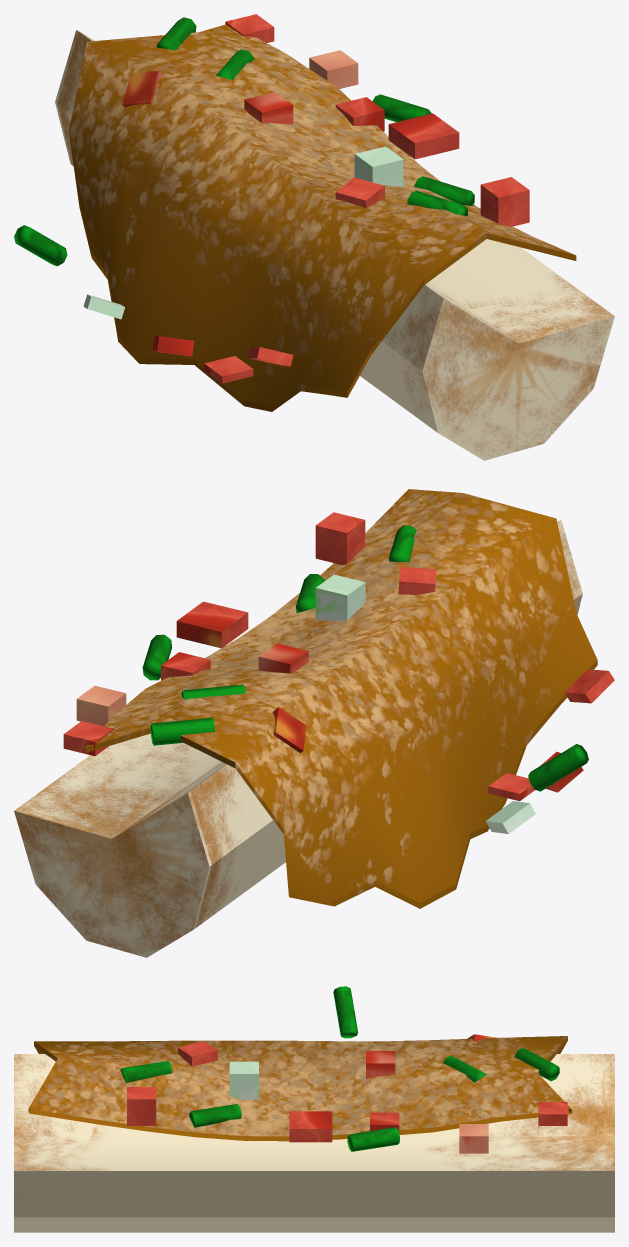
The model's file is yucaa2C.glb.
3 views of the same model, one above another, from view 1: azimuth 30°, elevation 25°; view 2: azimuth 150°, elevation 25°; view 3: azimuth 270°, elevation 25° (orthographic). The views are drawn at different scales.
Parts seen in each view (by area): view 1: Plato2; view 2: Plato2; view 3: Plato2.
Boxes of the visible parts, left/top/right/bottom form: Plato2: left=14, top=14, right=614, bottom=460; Plato2: left=14, top=489, right=614, bottom=957; Plato2: left=14, top=986, right=614, bottom=1232.
Bounding box in the file's own units: 1.04 × 0.5183 × 1.56.
5 materials, 5 textured.
